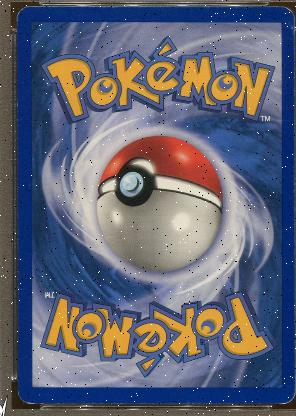Card: (14, 4, 294, 408)
Corner Wear: (15, 390, 38, 406), (15, 6, 28, 28)
Edge Wear: (55, 402, 140, 404)
Scratch: (285, 20, 293, 40)
